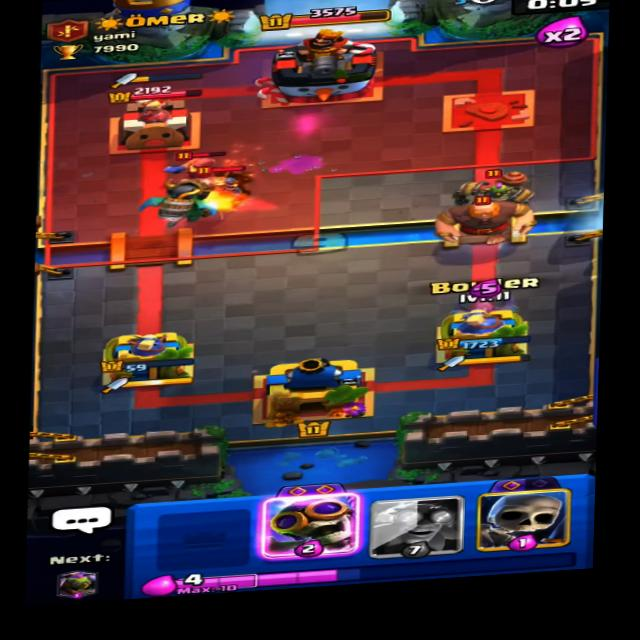fisherman: (165, 140, 241, 190)
giant: (423, 189, 543, 250)
goblin-machine: (440, 160, 552, 214)
prince: (190, 162, 251, 217)
